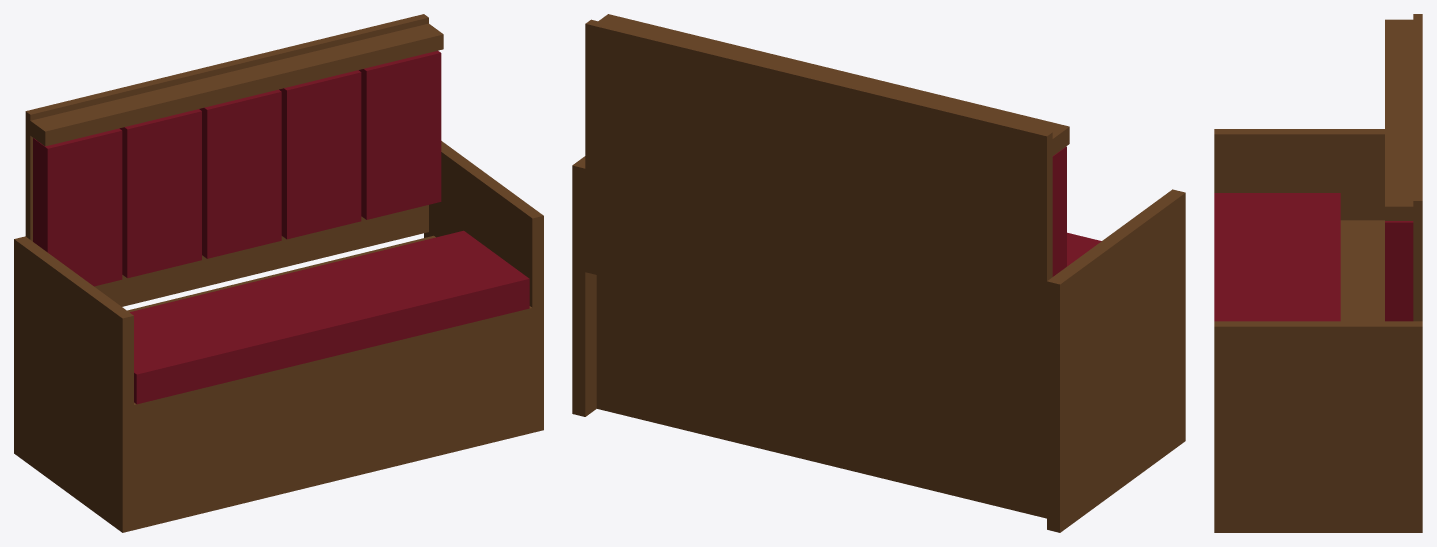
Rendered from booth-vino.glb.
The picture shows the model from 3 angles, left to right: view 1: azimuth 30°, elevation 25°; view 2: azimuth 150°, elevation 25°; view 3: azimuth 270°, elevation 25°; orthographic projection. The views are drawn at different scales.
Parts seen in each view (by area): view 1: booth-vino; view 2: booth-vino; view 3: booth-vino.
Part boxes in pixels (x1,y1,x2,y2): booth-vino: (14, 14, 543, 532); booth-vino: (572, 14, 1185, 532); booth-vino: (1214, 14, 1422, 532).
Bounding box in the file's own units: 1.48 × 1.14 × 0.66.
